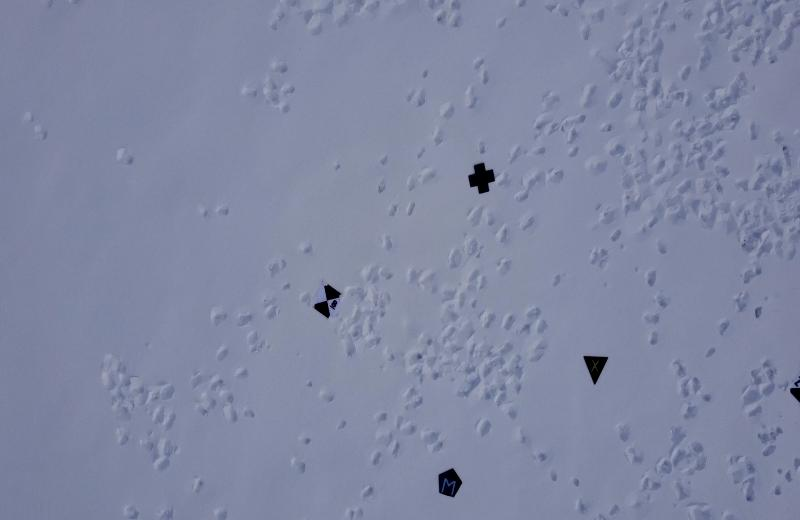Cross: (466, 161, 498, 197)
Pentagon: (433, 466, 465, 502)
Triangle: (583, 347, 617, 388)
